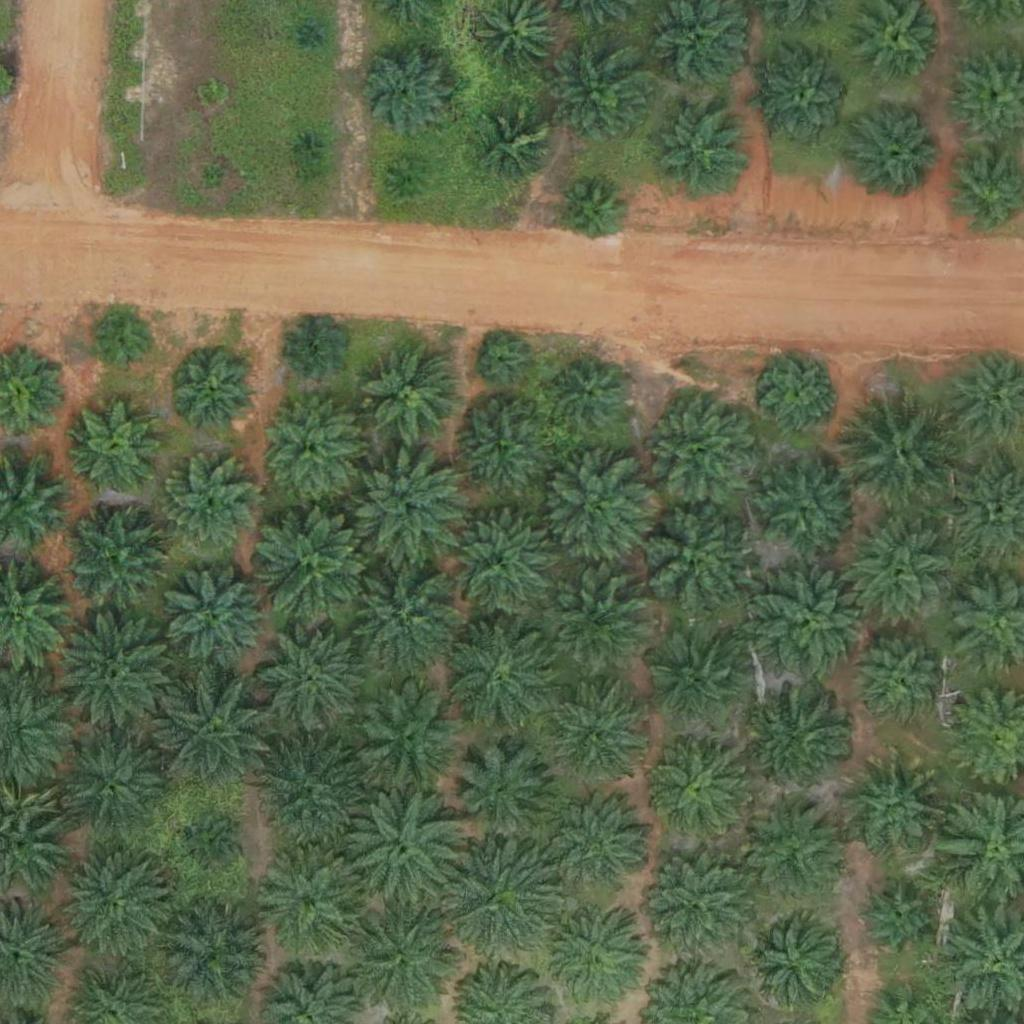Kelapa_Sawit: (47, 612, 172, 738), (152, 671, 277, 797), (253, 502, 378, 628), (249, 731, 374, 857), (336, 551, 461, 677), (346, 782, 471, 908), (441, 613, 566, 739), (436, 838, 561, 964), (641, 386, 766, 512), (629, 497, 754, 623), (634, 844, 759, 970), (749, 561, 874, 687), (840, 387, 965, 513), (836, 510, 961, 636), (342, 896, 467, 1022), (437, 505, 562, 630), (61, 502, 174, 616), (160, 897, 273, 1011), (53, 729, 166, 842), (58, 846, 171, 959), (350, 451, 463, 564), (351, 683, 464, 796), (446, 739, 559, 852), (545, 793, 658, 906), (533, 901, 646, 1014), (258, 846, 370, 960), (350, 36, 462, 149), (161, 563, 273, 676), (252, 620, 364, 733), (539, 454, 651, 567), (540, 566, 652, 679), (551, 45, 651, 146), (650, 100, 750, 201), (157, 456, 257, 557), (261, 397, 361, 498), (361, 345, 461, 446), (450, 399, 550, 500), (649, 633, 749, 734), (650, 734, 750, 835), (757, 689, 857, 790), (745, 794, 845, 895), (848, 757, 948, 858), (741, 911, 841, 1012), (756, 49, 856, 149), (848, 100, 948, 200), (755, 458, 855, 558), (72, 401, 160, 489), (171, 350, 259, 438), (552, 689, 640, 777), (857, 640, 944, 728), (762, 355, 837, 431), (481, 109, 556, 184), (553, 358, 628, 433), (859, 883, 934, 958), (560, 182, 623, 245), (182, 817, 245, 880), (283, 320, 346, 383), (93, 313, 155, 376), (478, 337, 528, 387), (390, 158, 428, 196), (198, 81, 223, 106), (201, 165, 226, 190), (301, 23, 326, 48), (294, 133, 319, 158)
